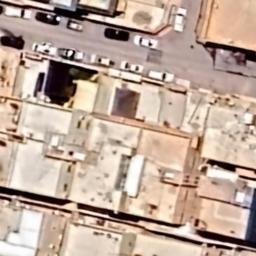pickup: (134, 34, 158, 50), (174, 8, 187, 32)
sedan: (104, 28, 130, 42), (35, 12, 61, 26), (0, 35, 24, 49), (67, 21, 83, 32)
truck: (148, 70, 175, 84), (32, 42, 58, 56), (120, 60, 144, 74), (89, 54, 111, 66)
unknown: (60, 48, 84, 60)
van: (5, 6, 32, 20)
